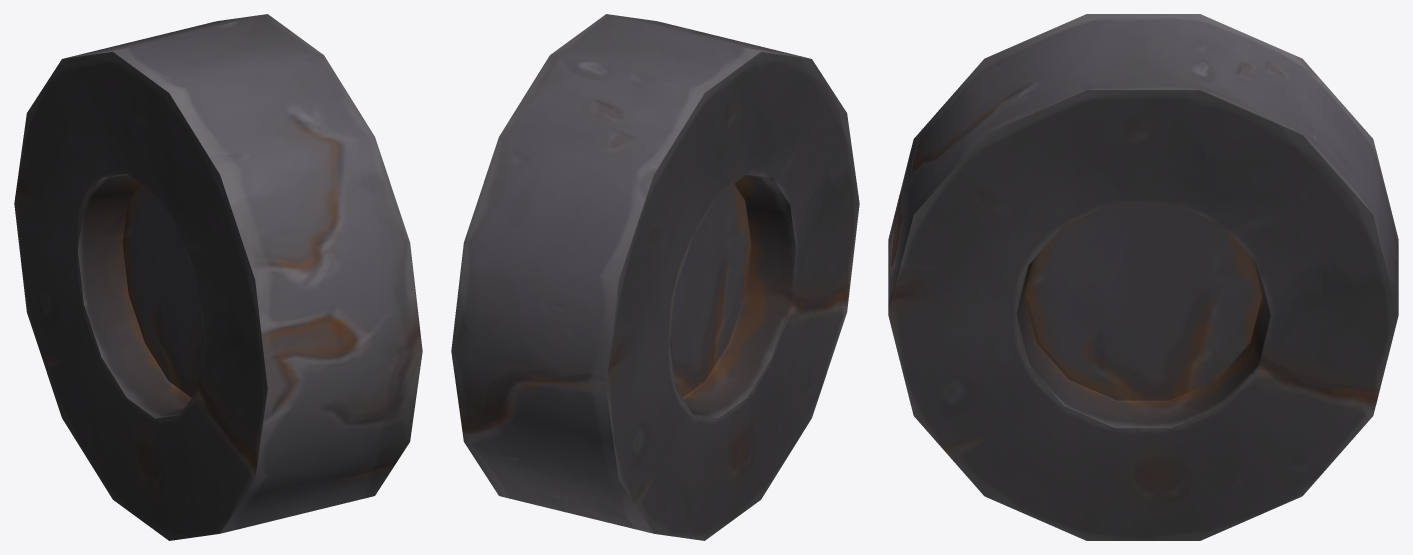
The model's file is Trolley_wheel.FBX.
The picture shows the model from 3 angles, left to right: view 1: azimuth 30°, elevation 25°; view 2: azimuth 150°, elevation 25°; view 3: azimuth 270°, elevation 25°; orthographic projection.
Visible parts, largest first — view 1: Trolley_wheel; view 2: Trolley_wheel; view 3: Trolley_wheel.
Boxes of the visible parts, x1,y1,x2,y2 form: Trolley_wheel: [14, 14, 422, 540]; Trolley_wheel: [451, 14, 859, 540]; Trolley_wheel: [888, 14, 1398, 540].
Bounding box in the file's own units: 98 × 271 × 278.
